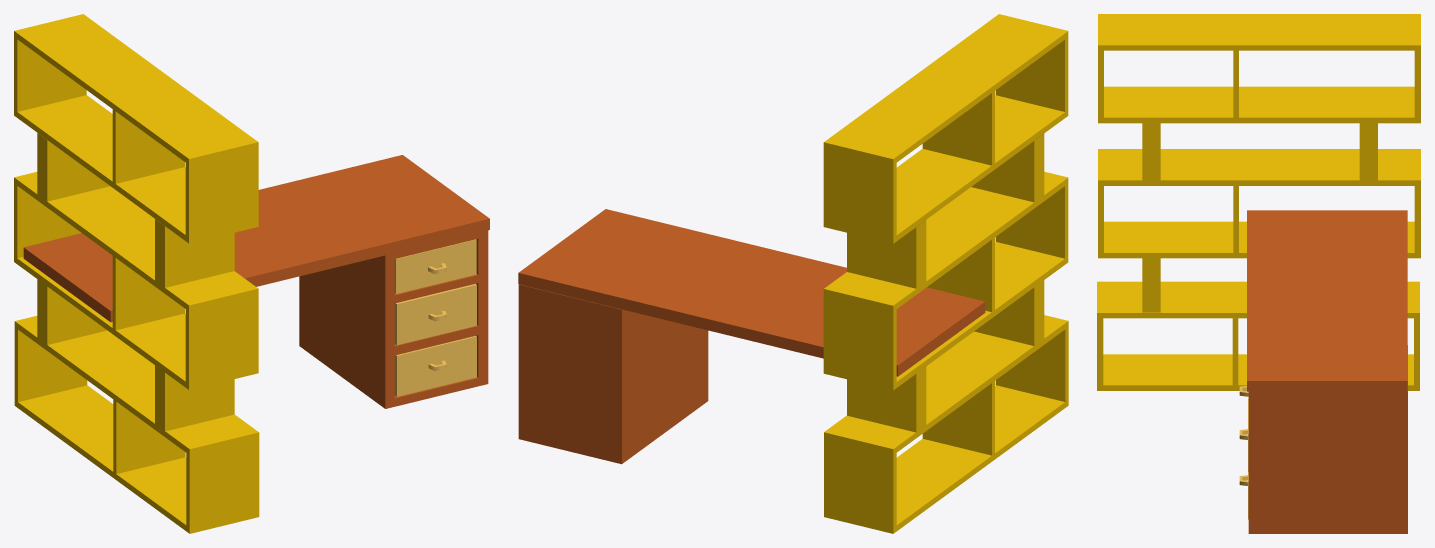
File: deskandshelf.FBX
The picture shows the model from 3 angles, left to right: view 1: azimuth 30°, elevation 25°; view 2: azimuth 150°, elevation 25°; view 3: azimuth 270°, elevation 25°; orthographic projection. The views are drawn at different scales.
Visible parts, largest first — view 1: bookshelf, desk, drawer_middle, drawer_bottom, drawer_top; view 2: bookshelf, desk; view 3: bookshelf, desk.
Part boxes in pixels (left/top/right/bottom): bookshelf: left=14, top=14, right=259, bottom=533; desk: left=23, top=155, right=489, bottom=408; drawer_middle: left=394, top=284, right=476, bottom=345; drawer_bottom: left=394, top=336, right=476, bottom=396; drawer_top: left=394, top=239, right=476, bottom=293; bookshelf: left=823, top=14, right=1068, bottom=533; desk: left=518, top=209, right=985, bottom=464; bookshelf: left=1097, top=14, right=1420, bottom=390; desk: left=1247, top=210, right=1407, bottom=533.
Size of the model in its own units: 884 by 836 by 704.
